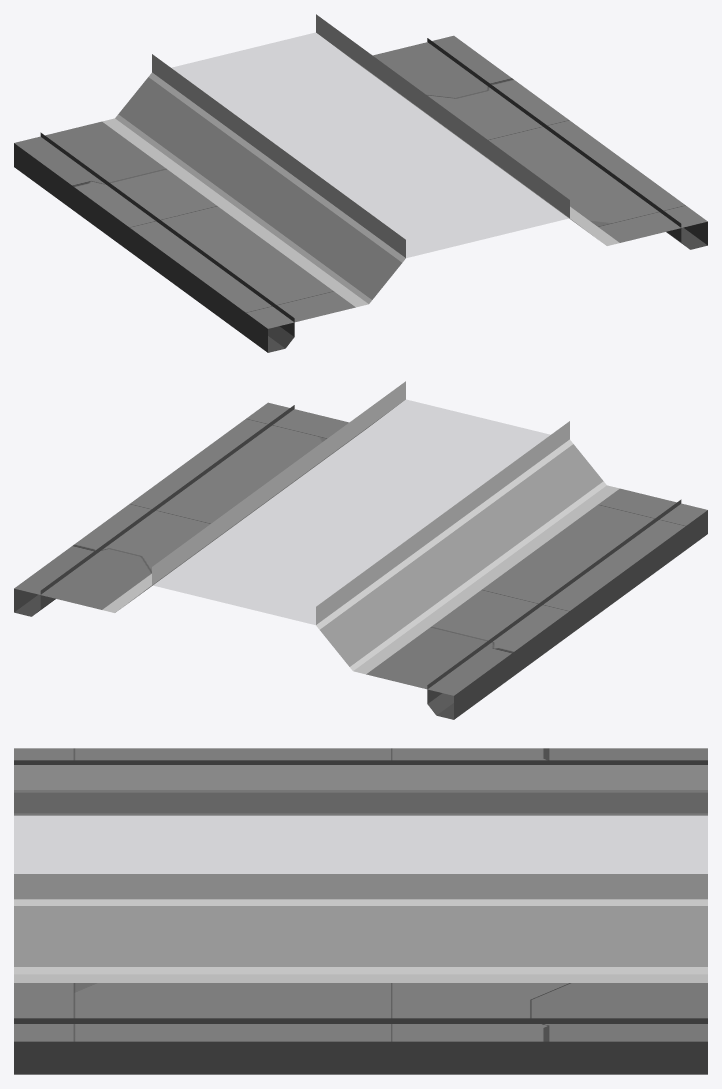
File: SM_Ceiling_5x5_Middle_1.fbx
The picture shows the model from 3 angles, top to bottom: view 1: azimuth 30°, elevation 25°; view 2: azimuth 150°, elevation 25°; view 3: azimuth 270°, elevation 25°; orthographic projection. The views are drawn at different scales.
Parts seen in each view (by area): view 1: SM_Ceiling_5x5_Middle_A; view 2: SM_Ceiling_5x5_Middle_A; view 3: SM_Ceiling_5x5_Middle_A.
Part boxes in pixels (x1=…): SM_Ceiling_5x5_Middle_A: x1=14, y1=14, x2=707, y2=352; SM_Ceiling_5x5_Middle_A: x1=14, y1=381, x2=707, y2=719; SM_Ceiling_5x5_Middle_A: x1=14, y1=748, x2=707, y2=1074.
Size of the model in its own units: 500 by 86.21 by 500.
